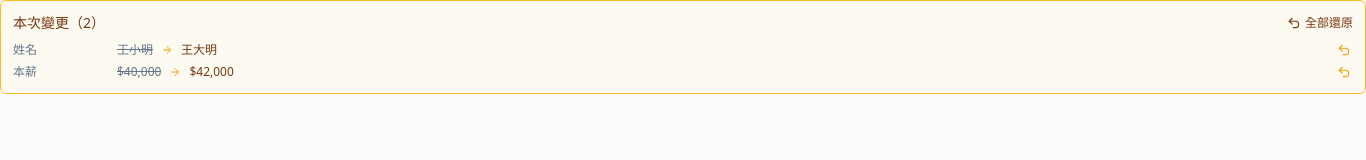
Test: ChangeSummary 還原需先確認 › 逐欄還原：第一次點只出現確認、需再按確定才呼叫 onRevertField
Later steps or results of the test are not shown.
Click the button named "還原 姓名" at (1344, 50), box [1335,41,1353,59]
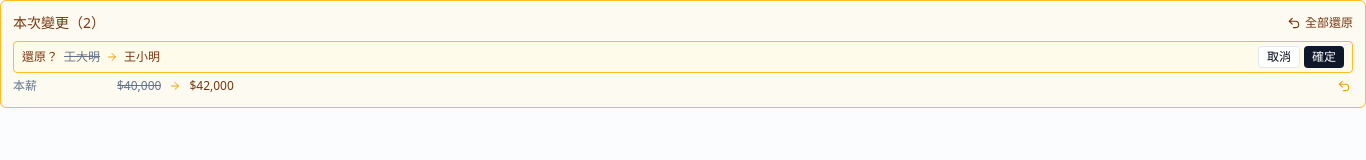
Result: the text "還原？" is shown at [22,49,58,65]
Result: the button "確定" is shown at [1304,46,1344,68]
